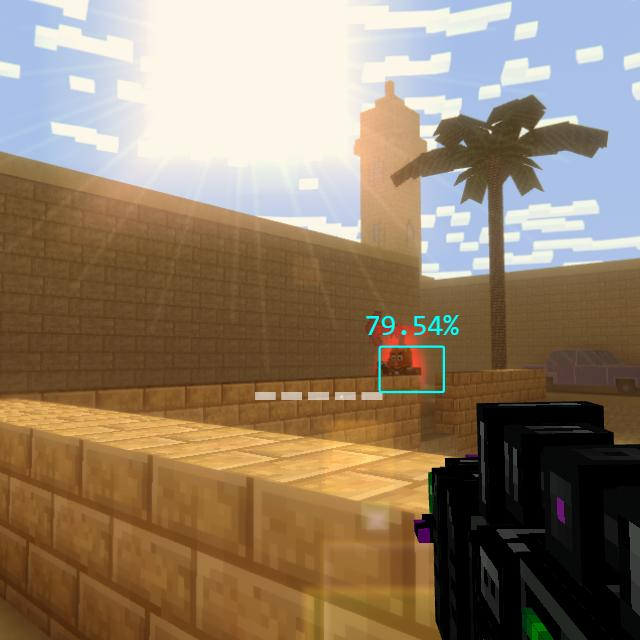Enemy: (380, 345, 423, 389)
